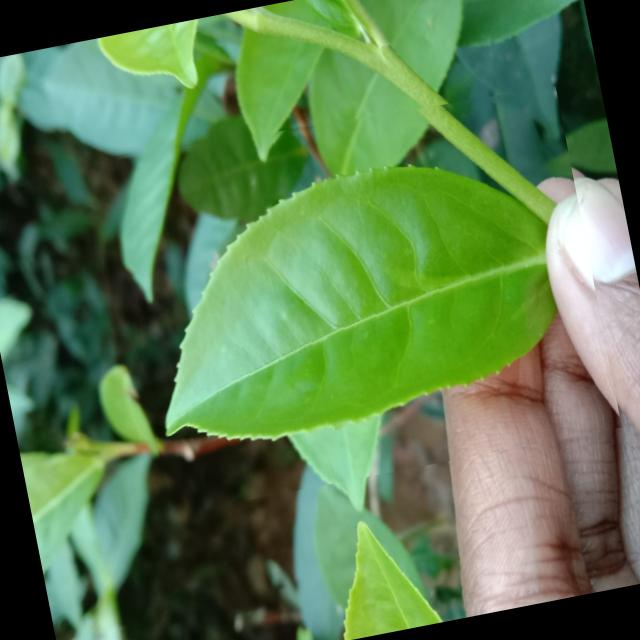Category C 4-7 days: (88, 71, 622, 517)
